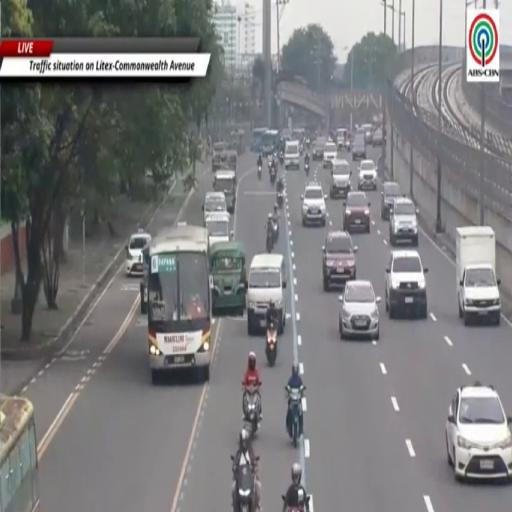bus: (148, 222, 212, 383), (0, 396, 40, 511), (262, 131, 278, 156), (251, 127, 267, 152)
car: (446, 382, 511, 479), (385, 250, 428, 318), (339, 280, 380, 340), (322, 231, 357, 291), (389, 198, 418, 246), (126, 230, 151, 276), (301, 182, 327, 226), (343, 191, 370, 232), (203, 191, 227, 226), (330, 159, 351, 198), (381, 182, 401, 220), (358, 160, 377, 190), (352, 134, 366, 161), (323, 142, 336, 168), (313, 137, 327, 161), (336, 128, 349, 151), (360, 124, 373, 143), (372, 128, 383, 147)
jeepney: (210, 242, 246, 315), (213, 170, 236, 214), (205, 212, 233, 245), (212, 142, 226, 171), (230, 130, 245, 155), (221, 151, 237, 171)
motorcycle: (231, 456, 255, 511), (285, 387, 305, 447), (243, 387, 260, 438), (286, 488, 310, 511), (265, 324, 277, 366), (266, 227, 273, 252), (273, 218, 279, 244), (277, 190, 284, 209), (270, 167, 276, 185), (279, 152, 284, 166), (305, 163, 309, 175), (258, 166, 261, 180), (300, 144, 303, 155)
truck: (456, 227, 501, 325)
